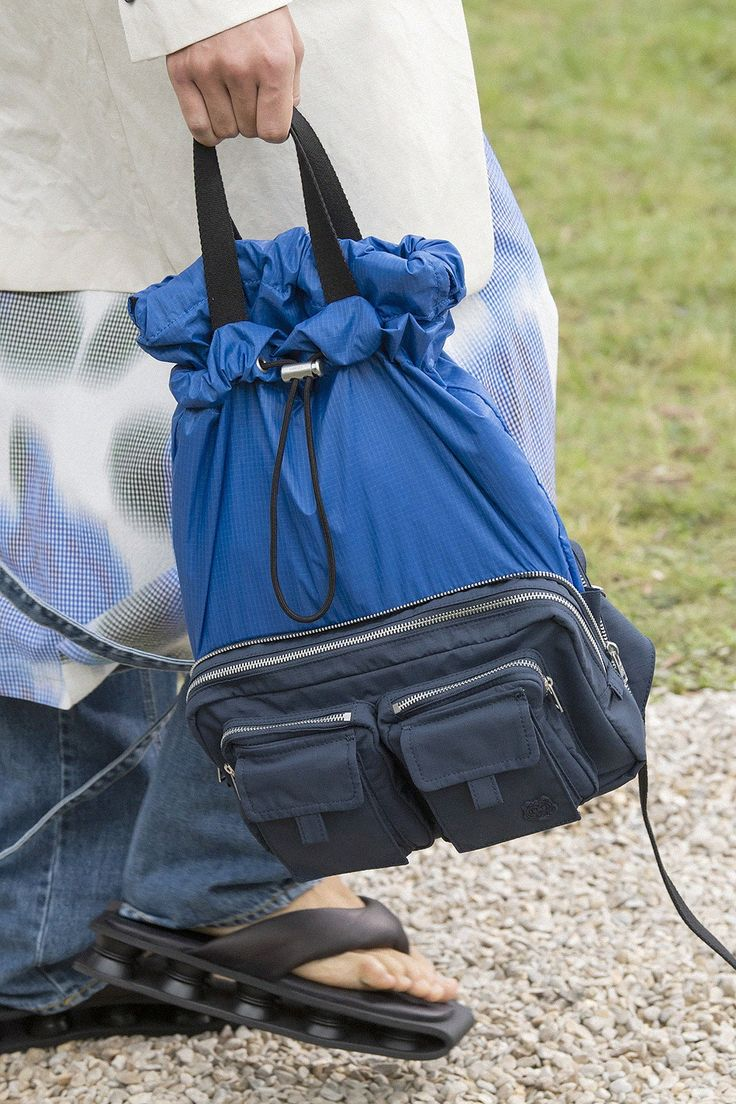nylon: (128, 224, 598, 675)
